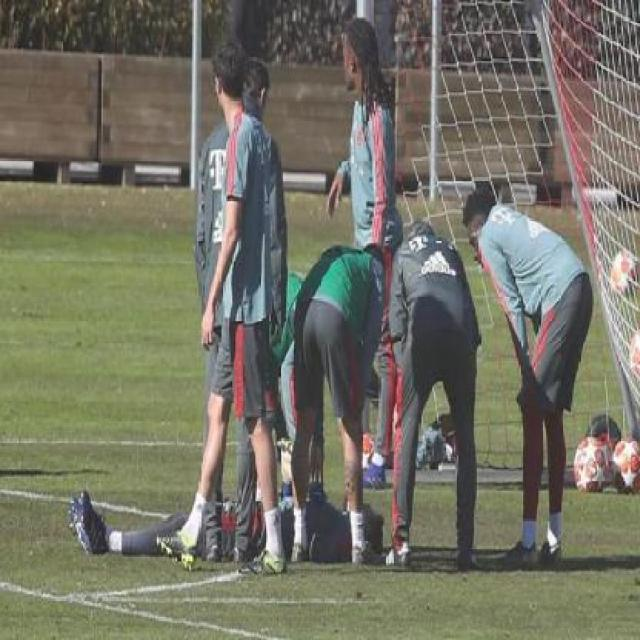fall: (566, 398, 637, 498)
